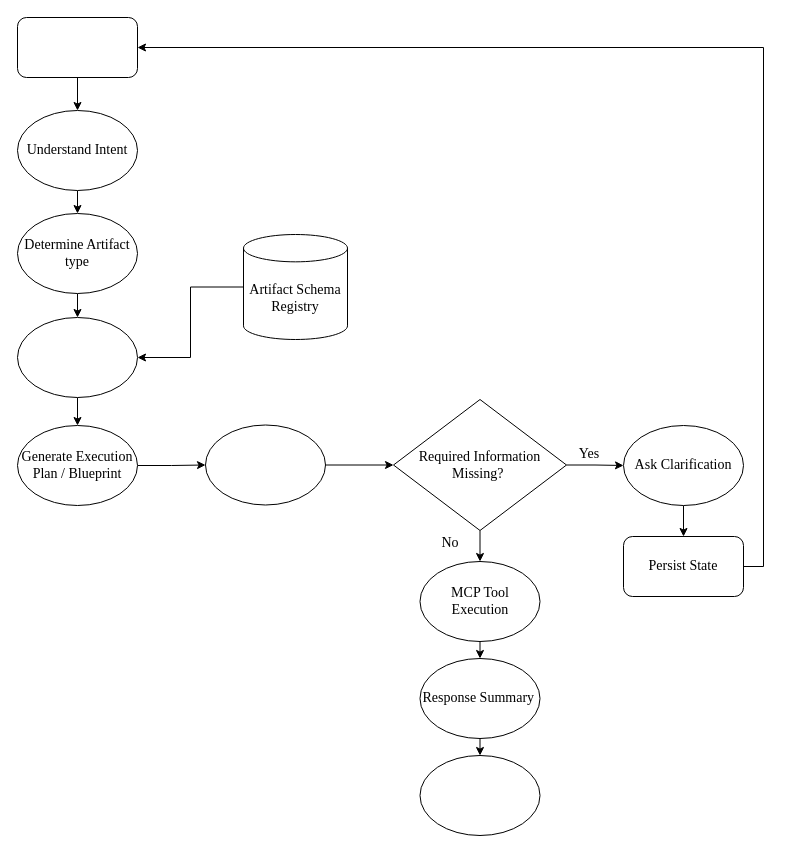
Some shapes in this 789 by 853 pixel diagram are drawn without their labels. Here are the shapes that lost their labels. From the top down, the centre of each, then its label:
At point 77,47: "User Prompt".
At point 77,357: "Load Artifact Schema".
At point 265,464: "User Confirmation Handler".
At point 479,795: "Suggest Next Action".
